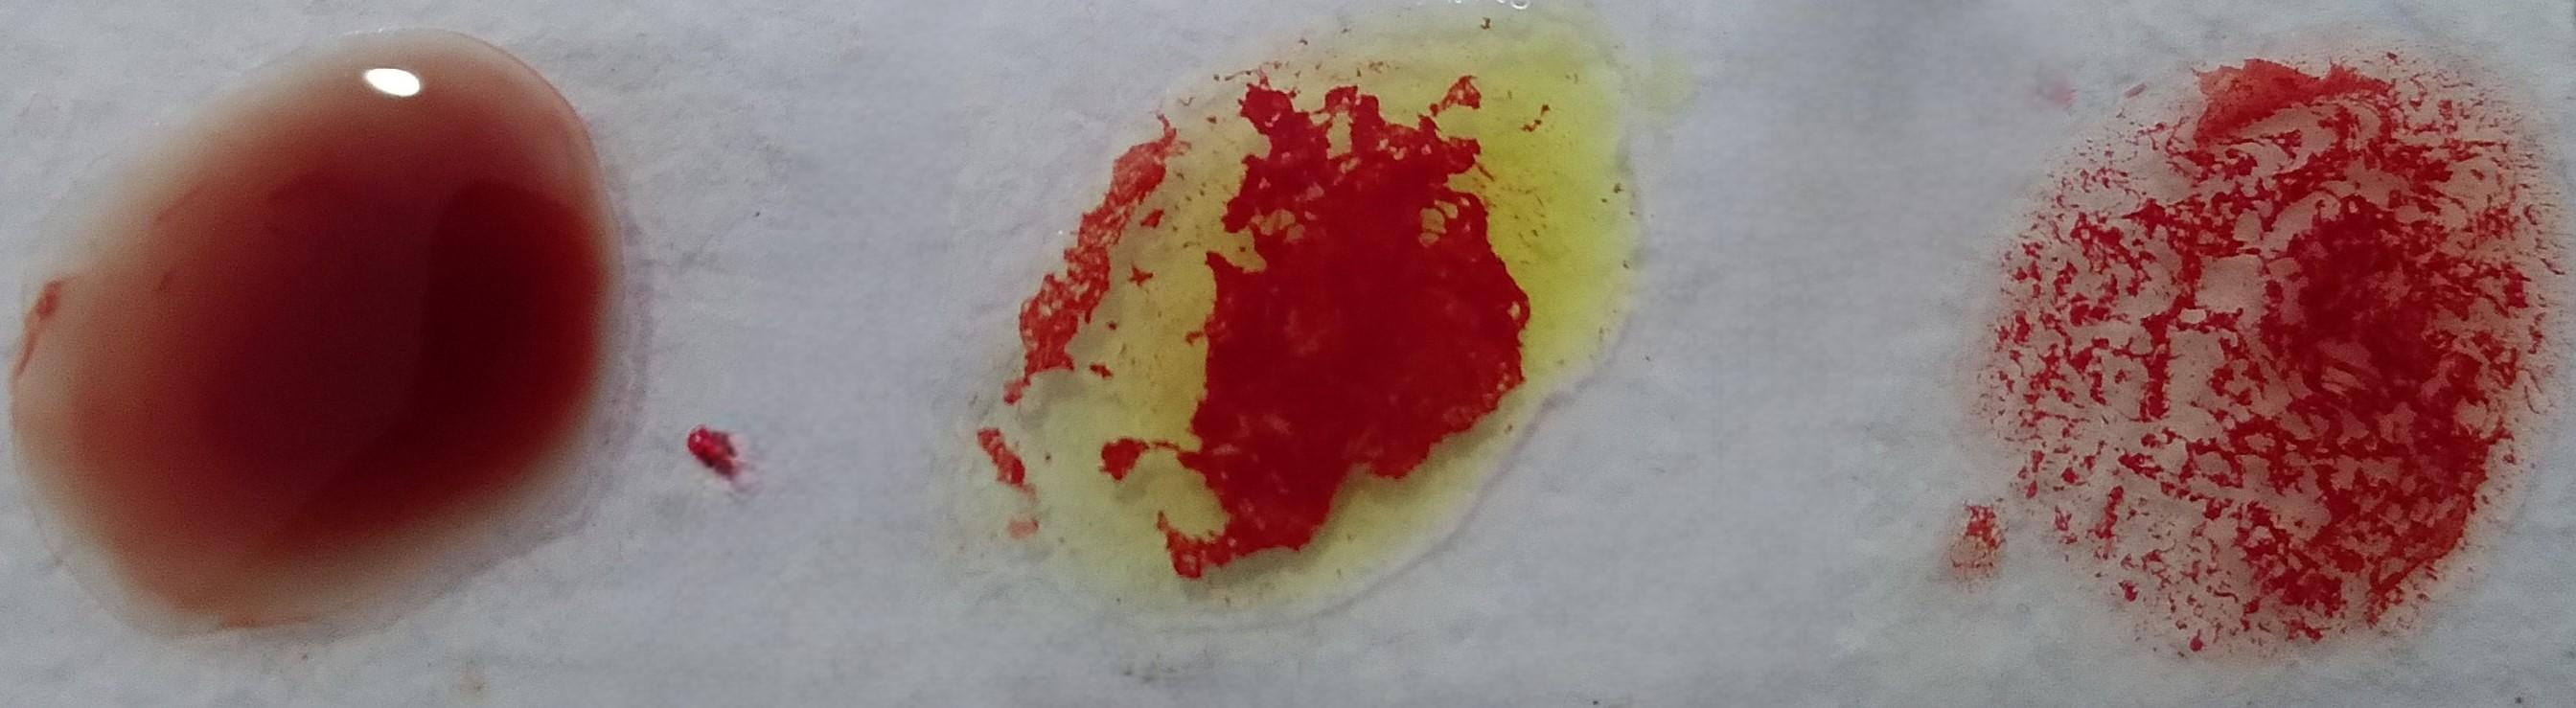B: (1030, 36, 1613, 641)
D: (1985, 39, 2525, 667)
